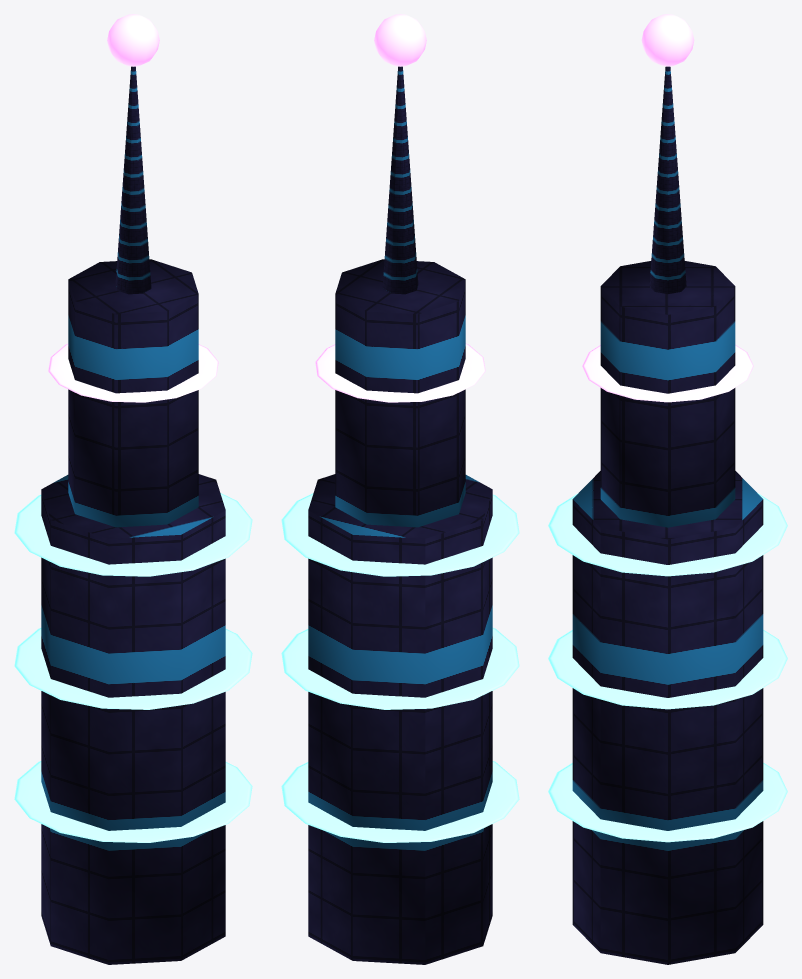
Rendered from prop_space_tower.glb.
3 views of the same model, side by side, from view 1: azimuth 30°, elevation 25°; view 2: azimuth 150°, elevation 25°; view 3: azimuth 270°, elevation 25° (orthographic).
Visible parts, largest first — view 1: TowerBase; view 2: TowerBase; view 3: TowerBase.
Part boxes in pixels (bbox=[...]): TowerBase: bbox=[14, 14, 252, 964]; TowerBase: bbox=[281, 14, 519, 964]; TowerBase: bbox=[548, 14, 787, 964].
Size of the model in its own units: 16.35 by 68.3 by 16.35.
Materials: 3 (1 with a texture image).
